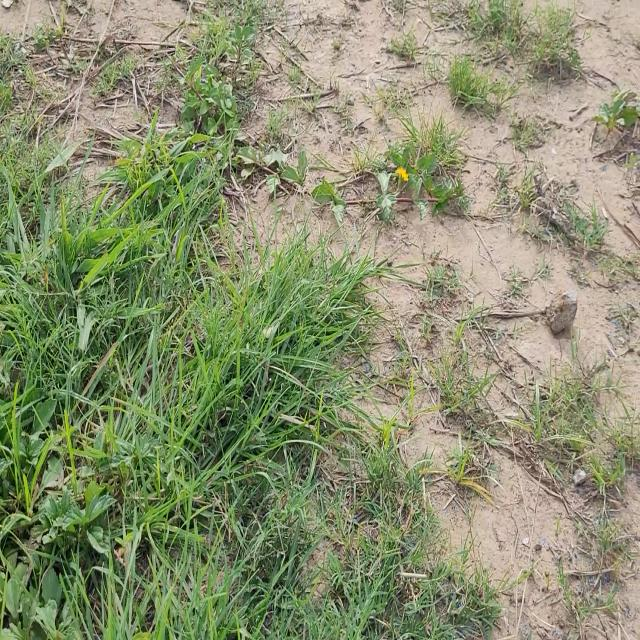grass: (0, 66, 497, 639)
white-sand: (266, 0, 640, 639)
